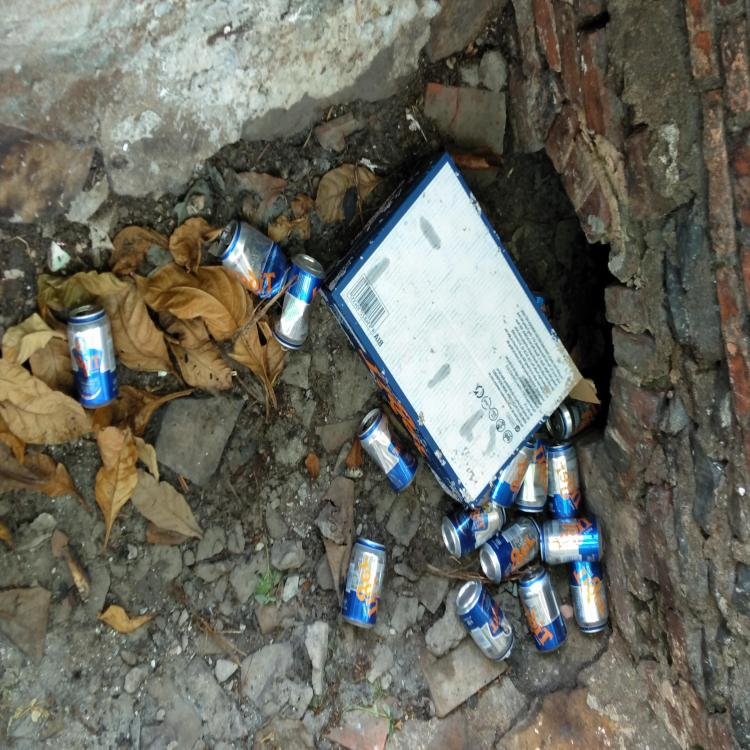Corrugated carton: (318, 152, 599, 509)
Drink can: (217, 217, 291, 300), (67, 305, 119, 410), (357, 408, 418, 495), (455, 580, 514, 662), (273, 255, 324, 349), (442, 492, 506, 558), (478, 515, 540, 583), (518, 566, 567, 652), (342, 538, 387, 630), (488, 442, 535, 508), (540, 517, 603, 564), (568, 562, 609, 633), (548, 439, 583, 518), (515, 433, 548, 512), (546, 401, 592, 440)
Pop tab: (220, 229, 231, 246), (528, 568, 536, 578), (366, 418, 374, 426), (281, 346, 288, 352)
